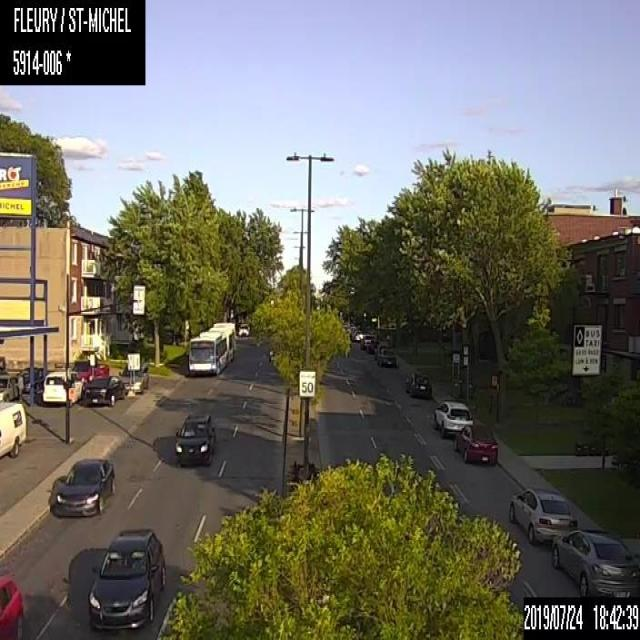bus: (188, 321, 235, 373)
vehicle: (85, 525, 167, 628), (551, 529, 639, 596), (49, 455, 115, 517), (508, 488, 577, 546), (172, 412, 216, 464), (454, 422, 497, 462), (0, 572, 25, 638), (432, 398, 472, 438), (0, 399, 25, 459), (43, 370, 81, 404), (86, 373, 125, 406), (72, 358, 108, 388), (118, 362, 148, 394), (404, 370, 431, 398), (21, 364, 44, 395), (0, 372, 21, 401), (377, 347, 396, 368), (359, 332, 375, 348), (352, 329, 364, 341), (238, 322, 249, 335)
